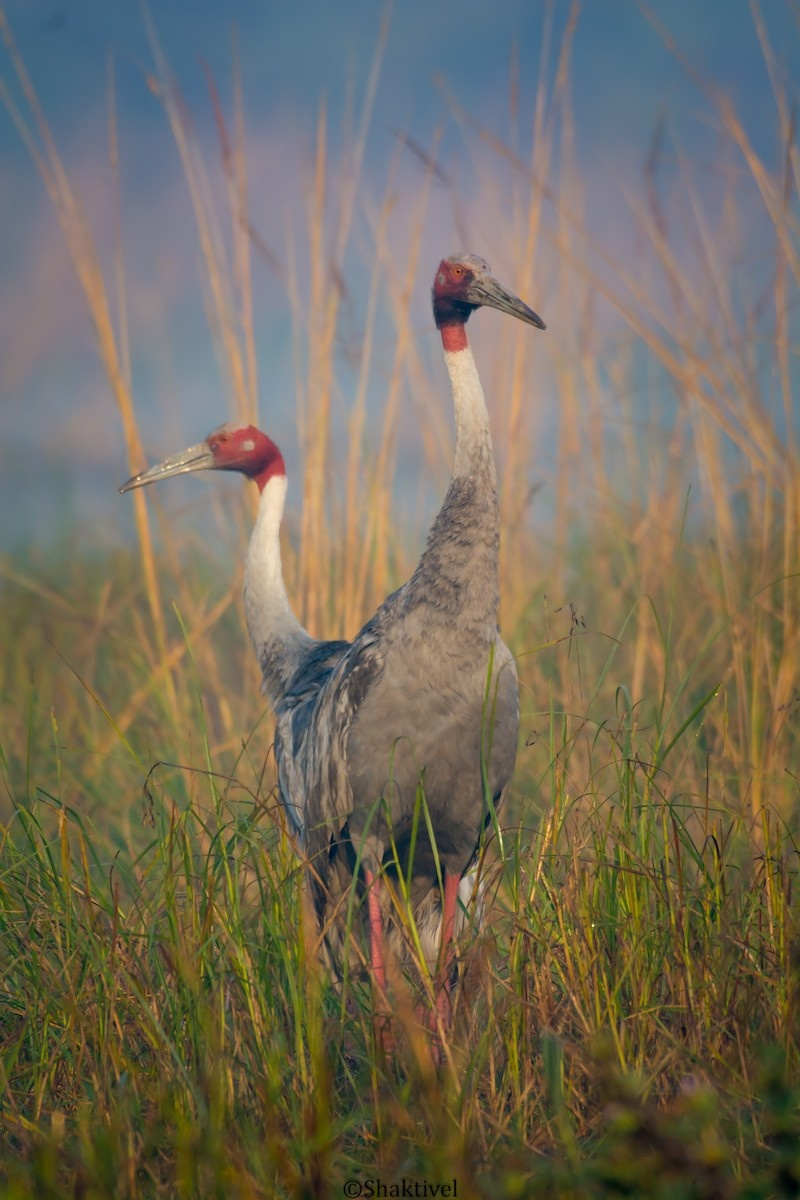crane: (327, 249, 558, 1063), (115, 405, 343, 679)
